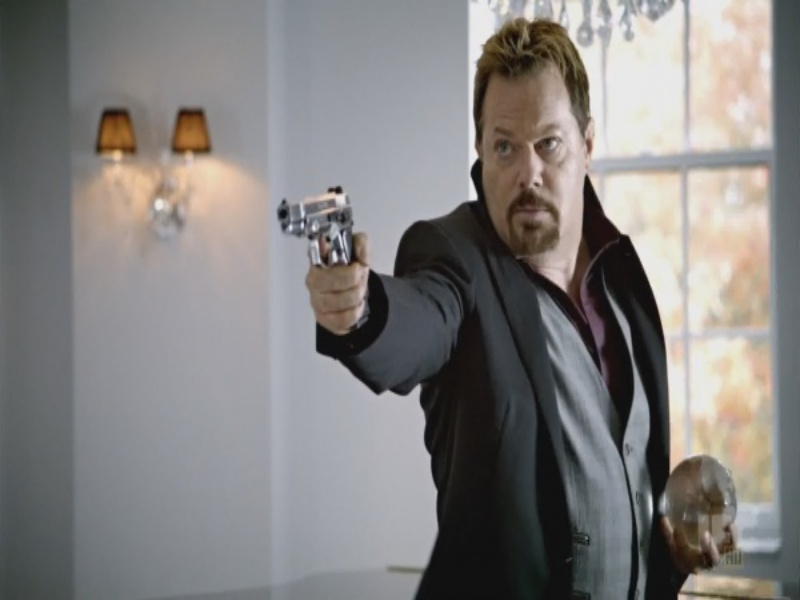person: (309, 18, 687, 598)
weapon: (275, 187, 367, 324)
